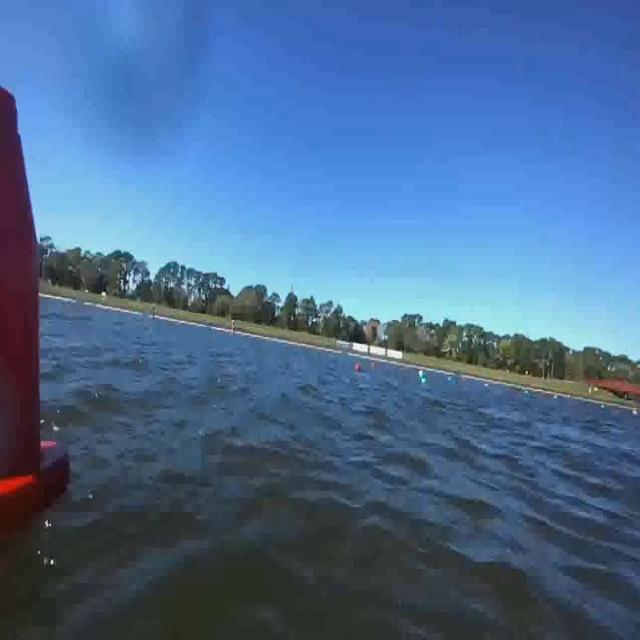red-column-buoy: (0, 84, 73, 513)
